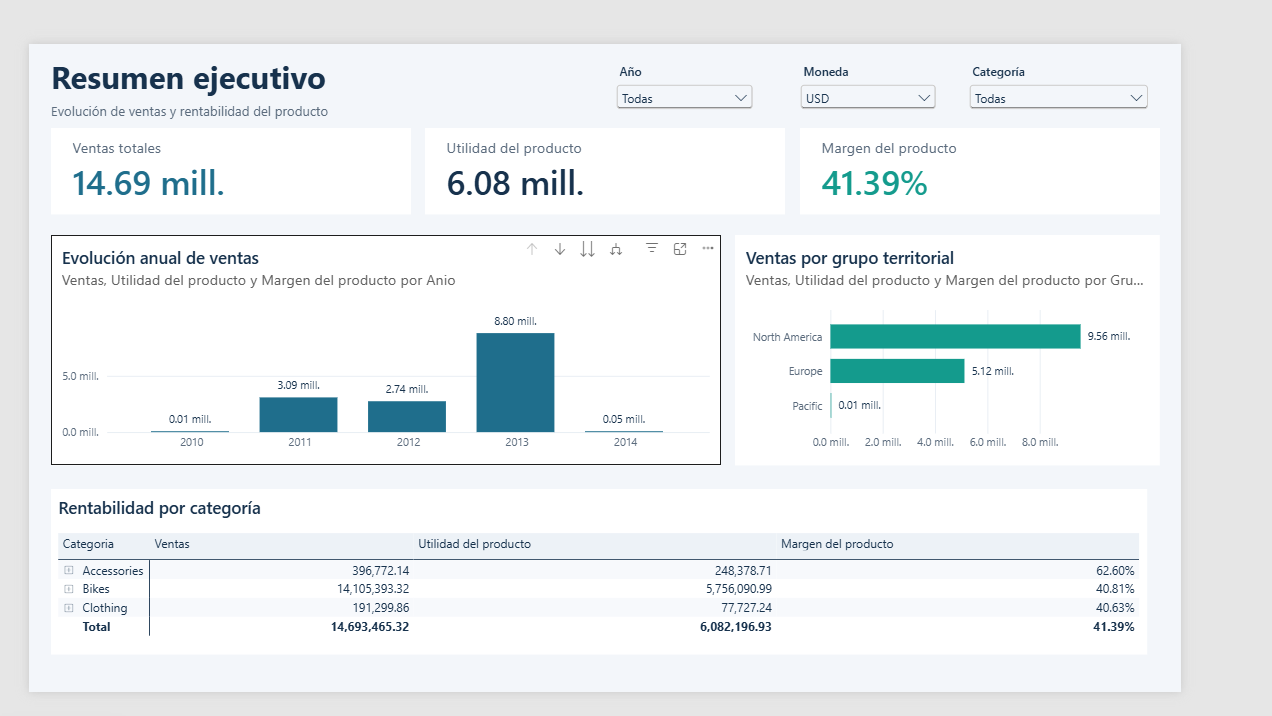

What the dashboard file says about the page in this screenshot:
{"tool":"powerbi","page":{"name":"Resumen ejecutivo","canvas":[1280,720],"ordinal":0},"visuals":[{"type":"textbox","box":[24,16,592,24],"z":10},{"type":"textbox","box":[24,48,600,48],"z":11},{"type":"textbox","box":[24,104,600,30],"z":12},{"type":"actionButton","box":[880,16,136,44],"z":20},{"type":"actionButton","box":[1032,16,224,44],"z":21},{"type":"cardVisual","fields":{"Data":["Ventas Internet.Ventas"]},"box":[24,160,400,96],"z":124},{"type":"cardVisual","fields":{"Data":["Measures.UtilidadProducto"]},"box":[440,160,400,96],"z":540},{"type":"slicer","fields":{"Values":["Fecha.Calendario.Anio"]},"box":[648,64,176,80],"z":678},{"type":"slicer","fields":{"Values":["Moneda.CodigoMoneda"]},"box":[840,64,176,80],"z":870},{"type":"cardVisual","fields":{"Data":["Measures.MargenProducto"]},"box":[856,160,400,96],"z":956},{"type":"slicer","fields":{"Values":["Producto.Categoria"]},"box":[1032,64,224,80],"z":1062},{"type":"columnChart","title":"Evolución anual de ventas","fields":{"Category":["Fecha.Calendario.Anio","Fecha.Calendario.Trimestre","Fecha.Calendario.Mes","Fecha.Calendario.Fecha"],"Y":["Ventas Internet.Ventas"]},"box":[24,280,744,256],"z":2000},{"type":"barChart","title":"Ventas por grupo territorial","fields":{"Category":["Territorio.Territorios.Grupo","Territorio.Territorios.Pais","Territorio.Territorios.Region"],"Y":["Ventas Internet.Ventas"]},"box":[784,280,472,256],"z":2001},{"type":"pivotTable","title":"Rentabilidad por categoría","fields":{"Rows":["Producto.Catalogo.Categoria","Producto.Catalogo.Subcategoria","Producto.Catalogo.Producto"],"Values":["Ventas Internet.Ventas","Measures.UtilidadProducto","Measures.MargenProducto"]},"box":[24,552,1232,136],"z":2002},{"type":"textbox","box":[24,696,1232,24],"z":9500}]}

Visuals, with their boxes in screenshot pixels (x1, y1, x2, y2), scaled from the page's 1280x720 canvas onto the 1272x716 screenshot:
textbox: 24 16 612 40
textbox: 24 48 620 95
textbox: 24 103 620 133
actionButton: 874 16 1010 60
actionButton: 1026 16 1248 60
cardVisual - Ventas Internet.Ventas: 24 159 421 255
cardVisual - Measures.UtilidadProducto: 437 159 835 255
slicer - Fecha.Calendario.Anio: 644 64 819 143
slicer - Moneda.CodigoMoneda: 835 64 1010 143
cardVisual - Measures.MargenProducto: 851 159 1248 255
slicer - Producto.Categoria: 1026 64 1248 143
"Evolución anual de ventas" columnChart: 24 278 763 533
"Ventas por grupo territorial" barChart: 779 278 1248 533
"Rentabilidad por categoría" pivotTable: 24 549 1248 684
textbox: 24 692 1248 715
